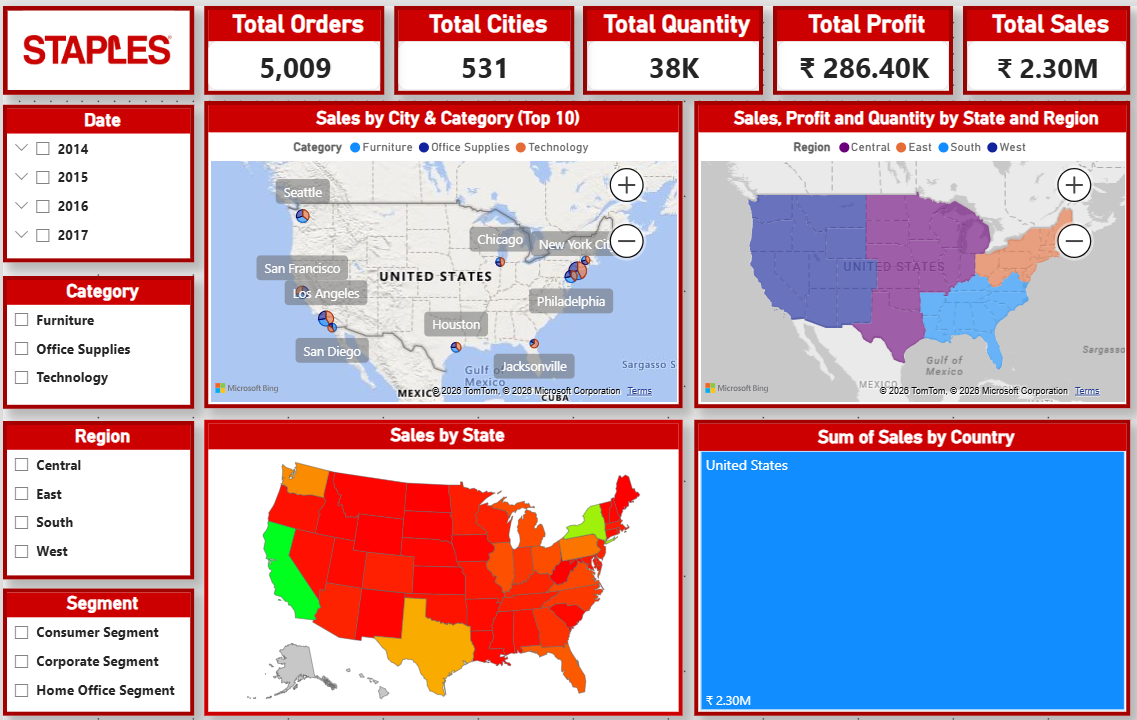

This screenshot's page, from the dashboard's own definition file:
{"tool":"powerbi","page":{"name":"Region Wise Analysis","canvas":[1920,1080],"ordinal":4},"visuals":[{"type":"image","box":[0,0,191.2,88.8],"z":0},{"type":"cardVisual","title":"Total Sales","fields":{"Data":["Sum(Orders.Sales)"]},"box":[960,0,167.5,88.8],"z":1000},{"type":"cardVisual","title":"Total Profit ","fields":{"Data":["Sum(Orders.Profit)"]},"box":[770.2,0,180,88.8],"z":2000},{"type":"cardVisual","title":"Total Quantity","fields":{"Data":["Sum(Orders.Quantity)"]},"box":[580.5,0,180,88.8],"z":3000},{"type":"cardVisual","title":"Total Cities","fields":{"Data":["Count(Orders.City)"]},"box":[390.8,0,180,88.8],"z":4000},{"type":"cardVisual","title":"Total Orders","fields":{"Data":["Count(Orders.Order ID)"]},"box":[201,0,180,88.8],"z":5000},{"type":"slicer","title":"Date ","fields":{"Values":["Orders.Order Date.Variation.Date Hierarchy.Year","Orders.Order Date.Variation.Date Hierarchy.Quarter","Orders.Order Date.Variation.Date Hierarchy.Month","Orders.Order Date.Variation.Date Hierarchy.Day"]},"box":[0,98.8,191.2,157.5],"z":6000},{"type":"slicer","title":"Category ","fields":{"Values":["Orders.Category"]},"box":[0,270,191.2,132.5],"z":7000},{"type":"slicer","title":"Region ","fields":{"Values":["Orders.Region"]},"box":[0,414.4,191.2,158.8],"z":8000},{"type":"slicer","title":"Segment ","fields":{"Values":["Orders.Segment"]},"box":[0,582.5,191.2,127.5],"z":9000},{"type":"map","title":"Sales by City & Category (Top 10)","fields":{"Category":["Orders.City"],"Series":["Orders.Category"],"Size":["Sum(Orders.Sales)"]},"box":[201.2,95,478.8,307.5],"z":10000},{"type":"filledMap","title":"Sales, Profit and Quantity by State and Region","fields":{"Category":["Orders.State"],"Series":["Orders.Region"]},"box":[691.2,95,436.2,307.5],"z":11000},{"type":"shapeMap","title":"Sales by State","fields":{"Category":["Orders.State"],"Value":["Sum(Orders.Sales)"]},"box":[201.2,413.8,478.8,296.2],"z":12000},{"type":"treemap","fields":{"Group":["Orders.Country"],"Values":["Sum(Orders.Sales)"]},"box":[691,414,436,296],"z":13000}]}

Visuals, with their boxes on the page's 1920x1080 design canvas (x1, y1, x2, y2). These are canvas units, not pixel positions in the 1137x720 screenshot, which may show the page scaled, cropped or inside an application window:
image: (left=0, top=0, right=191, bottom=89)
"Total Sales" cardVisual: (left=960, top=0, right=1128, bottom=89)
"Total Profit " cardVisual: (left=770, top=0, right=950, bottom=89)
"Total Quantity" cardVisual: (left=580, top=0, right=760, bottom=89)
"Total Cities" cardVisual: (left=391, top=0, right=571, bottom=89)
"Total Orders" cardVisual: (left=201, top=0, right=381, bottom=89)
"Date " slicer: (left=0, top=99, right=191, bottom=256)
"Category " slicer: (left=0, top=270, right=191, bottom=402)
"Region " slicer: (left=0, top=414, right=191, bottom=573)
"Segment " slicer: (left=0, top=582, right=191, bottom=710)
"Sales by City & Category (Top 10)" map: (left=201, top=95, right=680, bottom=402)
"Sales, Profit and Quantity by State and Region" filledMap: (left=691, top=95, right=1127, bottom=402)
"Sales by State" shapeMap: (left=201, top=414, right=680, bottom=710)
treemap - Orders.Country x Sum(Orders.Sales): (left=691, top=414, right=1127, bottom=710)
